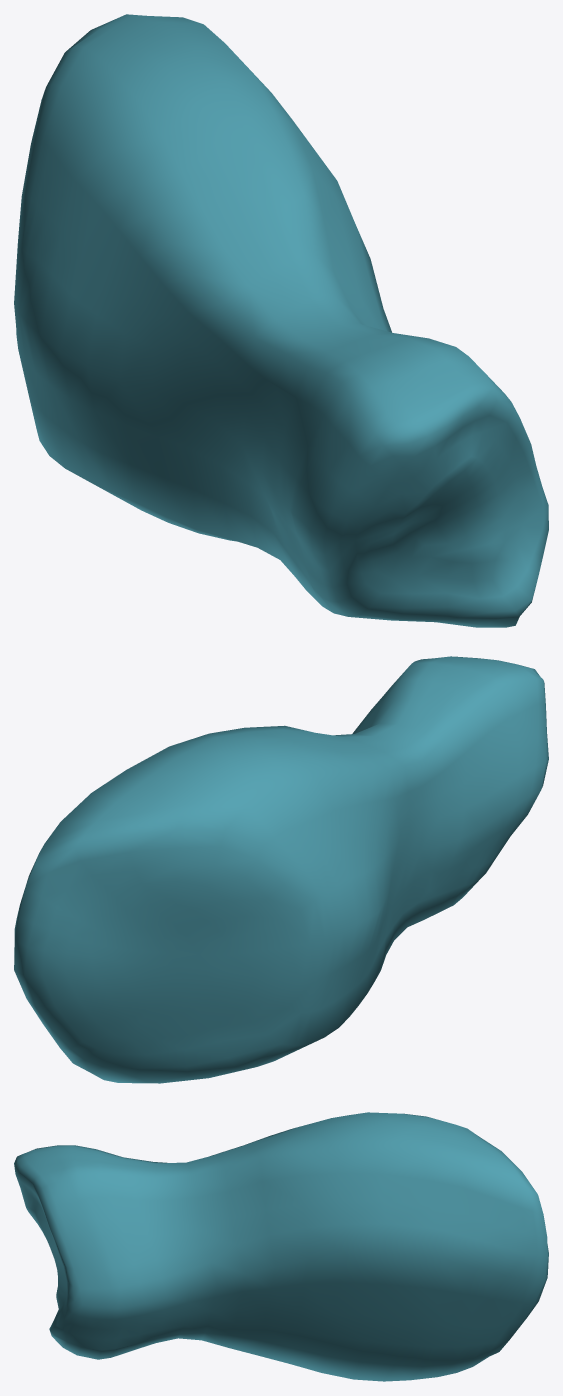
The model's file is VIS_Alpha_Surface_007.dae.
3 views of the same model, one above another, from view 1: azimuth 30°, elevation 25°; view 2: azimuth 150°, elevation 25°; view 3: azimuth 270°, elevation 25° (orthographic). The views are drawn at different scales.
Parts seen in each view (by area): view 1: VIS_Alpha_Surface_007; view 2: VIS_Alpha_Surface_007; view 3: VIS_Alpha_Surface_007.
Boxes of the visible parts, bbox=[...] form: VIS_Alpha_Surface_007: bbox=[14, 14, 548, 627]; VIS_Alpha_Surface_007: bbox=[14, 656, 548, 1083]; VIS_Alpha_Surface_007: bbox=[14, 1112, 548, 1381].
Size of the model in its own units: 18.4 by 45.34 by 22.93.
